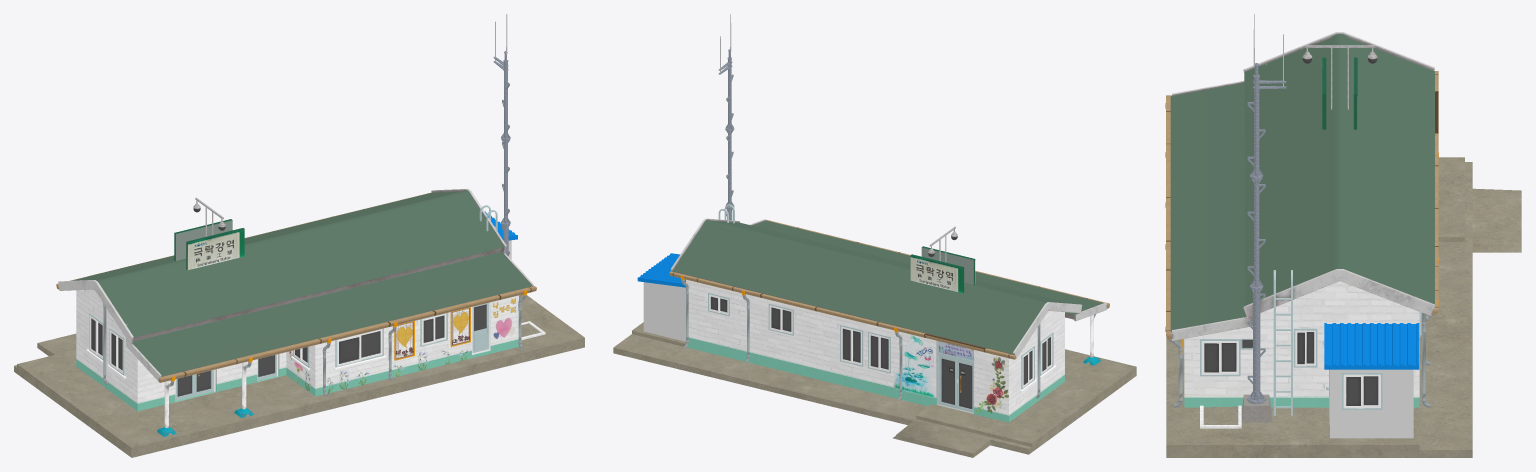
The model's file is station.glb.
The picture shows the model from 3 angles, left to right: view 1: azimuth 30°, elevation 25°; view 2: azimuth 150°, elevation 25°; view 3: azimuth 270°, elevation 25°; orthographic projection. The views are drawn at different scales.
Parts seen in each view (by area): view 1: Geungnakgang_Station_mat_1_Geungnakgang_Station_mat-1_0, Geungnakgang_Station_mat_2_Geungnakgang_Station_mat-2_0; view 2: Geungnakgang_Station_mat_1_Geungnakgang_Station_mat-1_0, Geungnakgang_Station_mat_2_Geungnakgang_Station_mat-2_0; view 3: Geungnakgang_Station_mat_1_Geungnakgang_Station_mat-1_0, Geungnakgang_Station_mat_2_Geungnakgang_Station_mat-2_0.
Boxes of the visible parts, x1,y1,x2,y2 form: Geungnakgang_Station_mat_1_Geungnakgang_Station_mat-1_0: (14,188,584,457); Geungnakgang_Station_mat_2_Geungnakgang_Station_mat-2_0: (89,14,527,436); Geungnakgang_Station_mat_1_Geungnakgang_Station_mat-1_0: (613,218,1136,457); Geungnakgang_Station_mat_2_Geungnakgang_Station_mat-2_0: (680,14,1100,412); Geungnakgang_Station_mat_1_Geungnakgang_Station_mat-1_0: (1166,32,1521,457); Geungnakgang_Station_mat_2_Geungnakgang_Station_mat-2_0: (1165,14,1438,424).
Bounding box in the file's own units: 19.18 × 12.92 × 10.03.
Materials: 2 (2 with a texture image).
